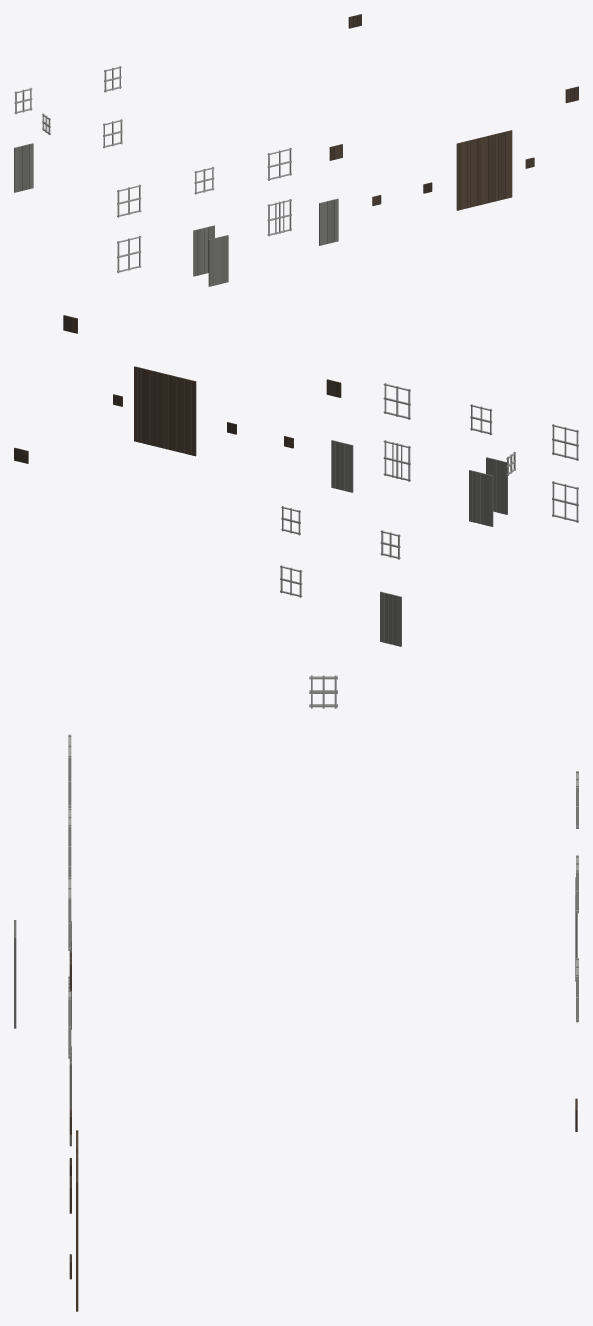
File: SM_Bld_221_Wood.glb
3 views of the same model, one above another, from view 1: azimuth 30°, elevation 25°; view 2: azimuth 150°, elevation 25°; view 3: azimuth 270°, elevation 25° (orthographic). The views are drawn at different scales.
Visible parts, largest first — view 1: SM_Bld_221_Wood; view 2: SM_Bld_221_Wood; view 3: SM_Bld_221_Wood.
Part boxes in pixels (box(x1,y1,x2,y2)): SM_Bld_221_Wood: box(14, 14, 578, 286); SM_Bld_221_Wood: box(14, 315, 578, 646); SM_Bld_221_Wood: box(14, 675, 578, 1311).
Bounding box in the file's own units: 21.96 × 5.95 × 11.87.
